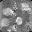people: (1, 17, 13, 27), (3, 7, 14, 16), (15, 16, 22, 26)
